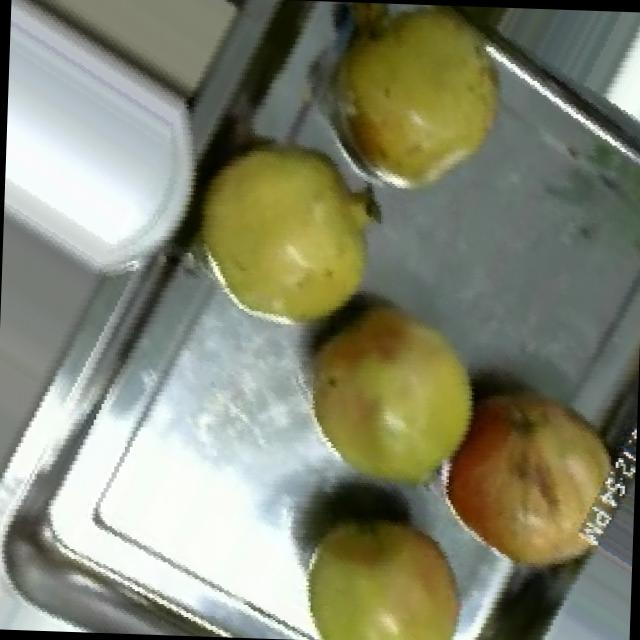fruit: (160, 103, 412, 355), (282, 275, 508, 516), (412, 362, 638, 599), (306, 0, 534, 219), (279, 493, 490, 640)
